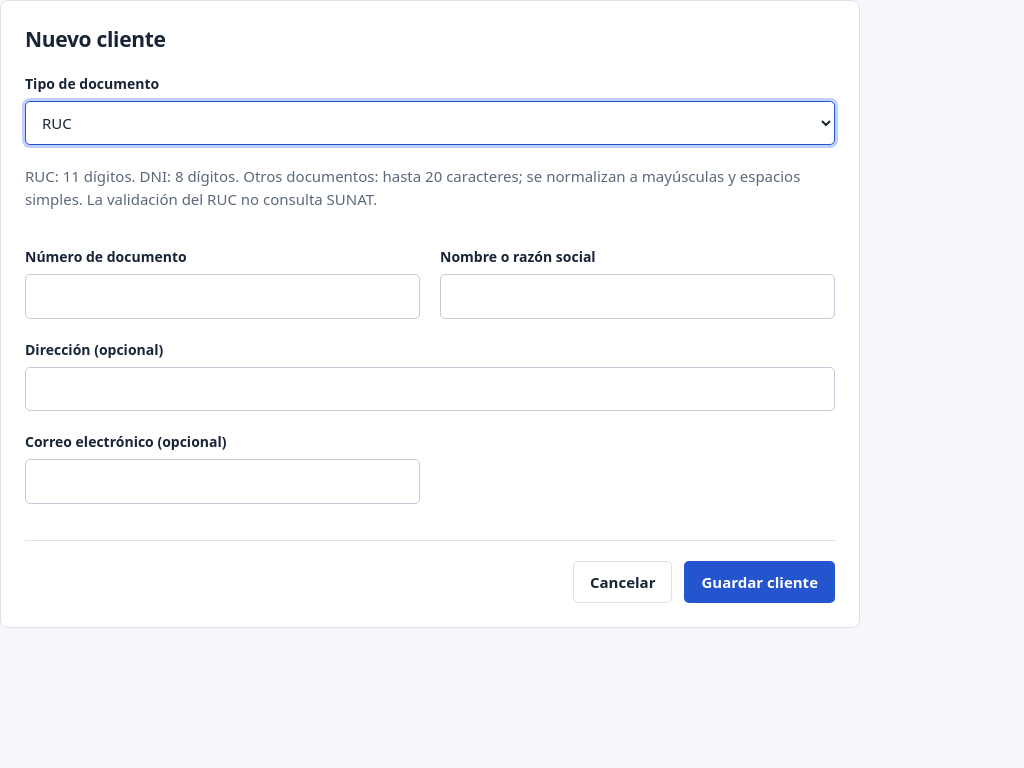
formulario de clientes › muestra errores por campo y conserva los valores
Select "DNI" in the dropdown labelled "Tipo de documento" at (430, 123), box [25,101,835,145]
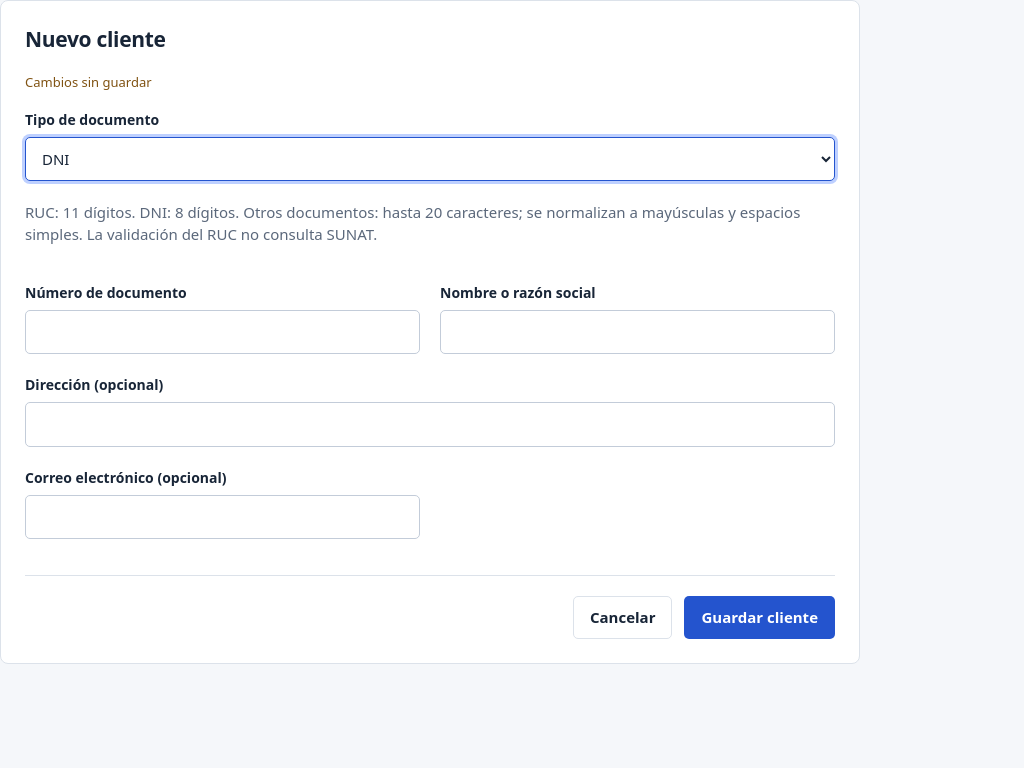
Type "00123456" into the field labelled "Número de documento" at (222, 332), box [25,310,420,354]
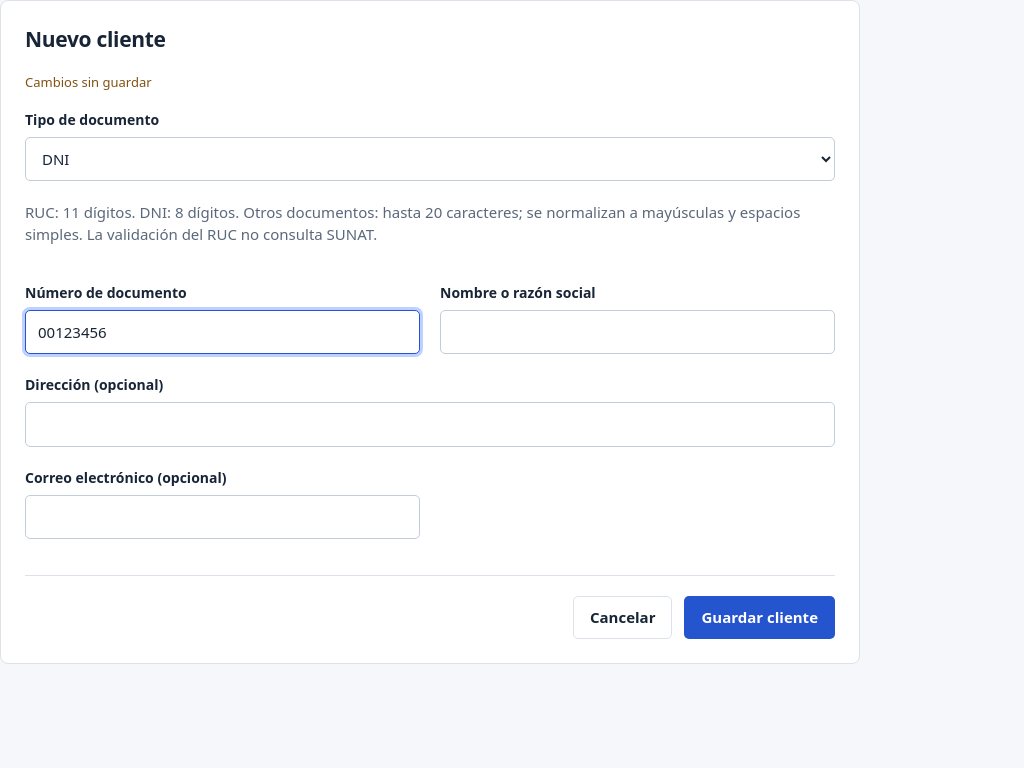
Type "Ana" into the field labelled "Nombre o razón social" at (638, 332), box [440,310,835,354]
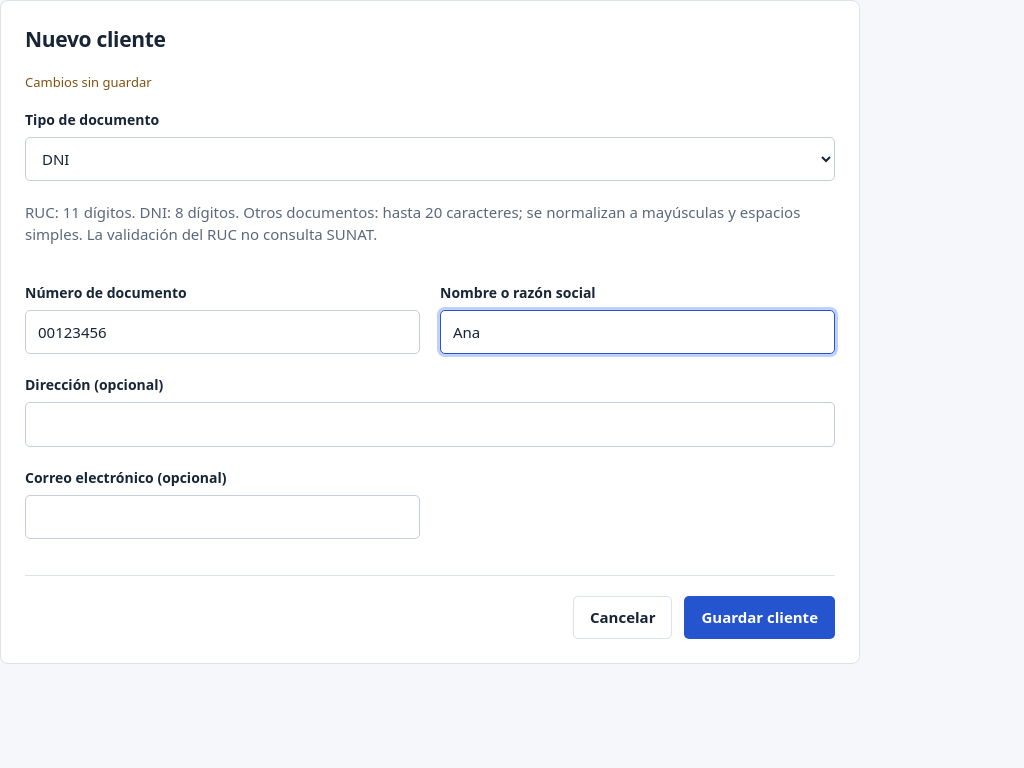
Click the button "Guardar cliente" at (760, 618), box [684,596,835,639]
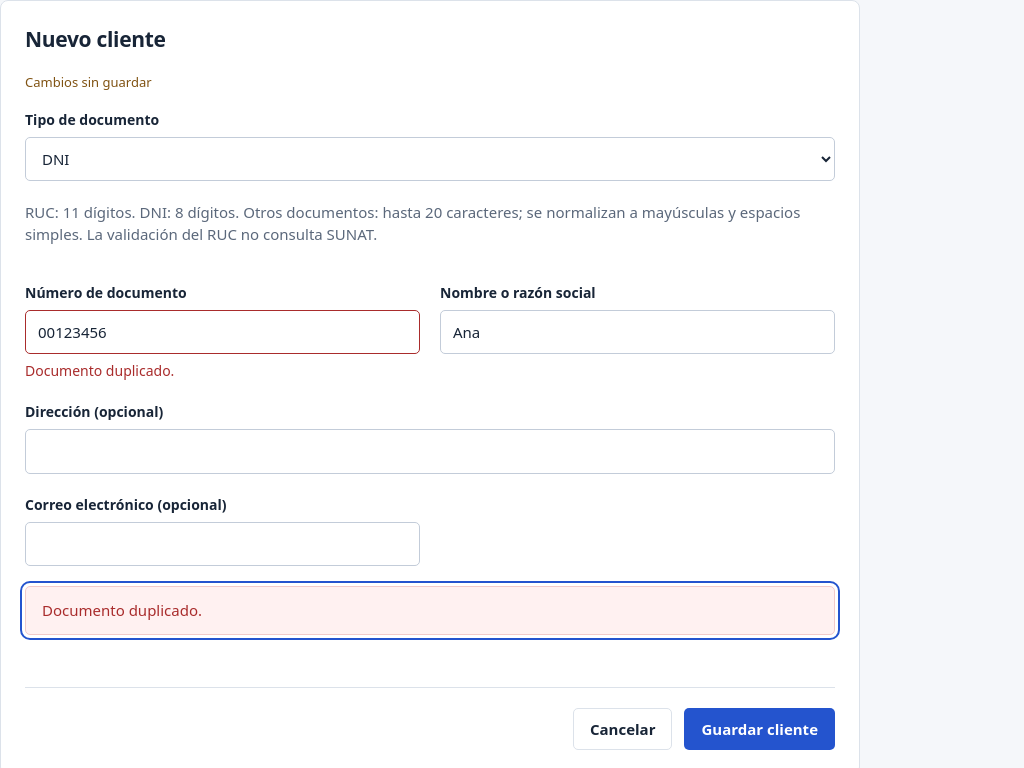
Expected: the message "Documento duplicado." is shown, [25,586,835,635]
